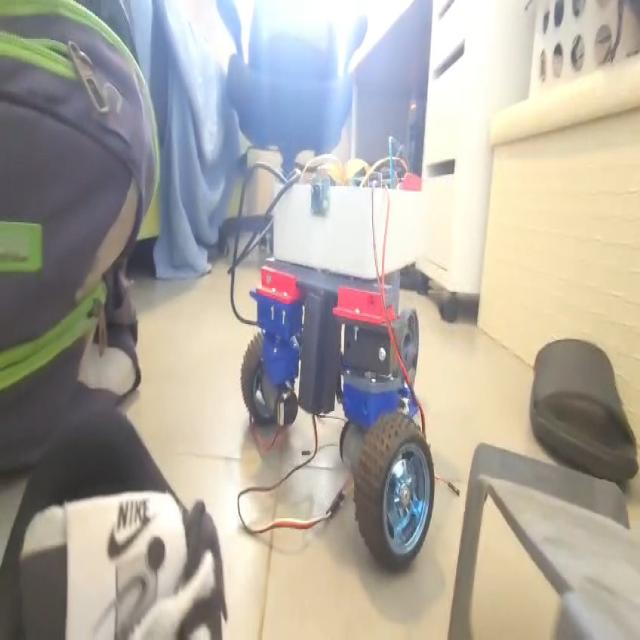Robot: (240, 161, 436, 574)
